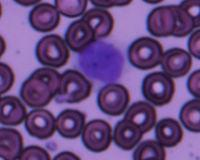L: (75, 36, 127, 86)
